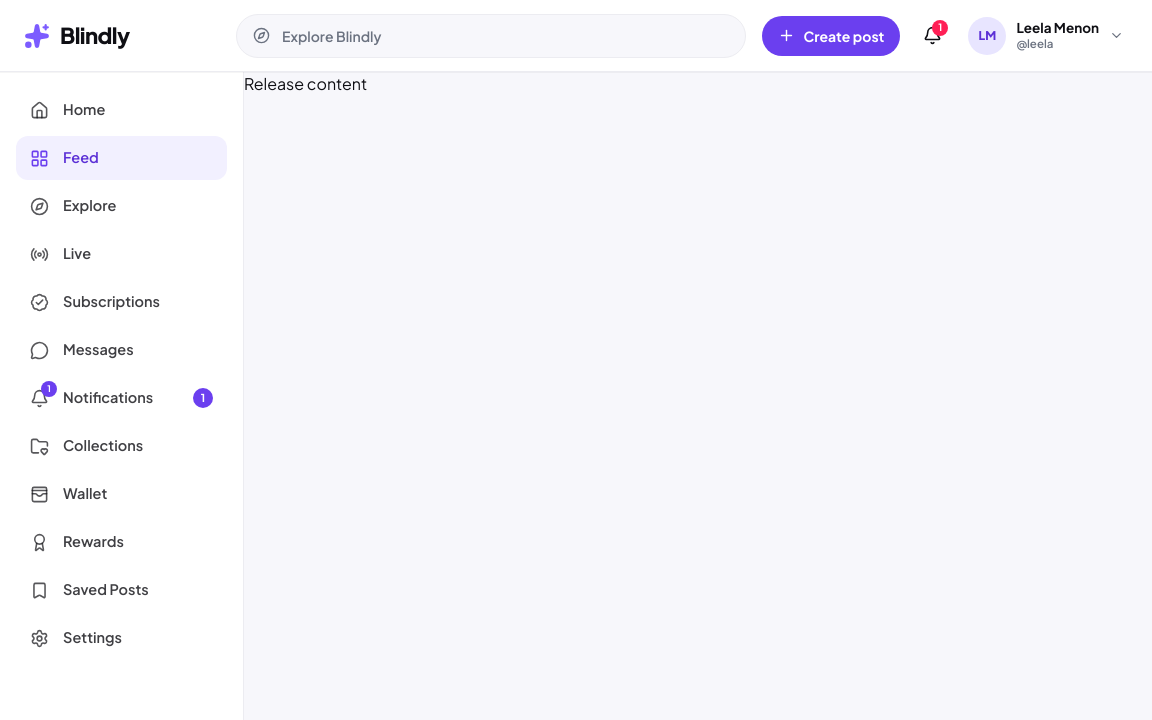
Test: Fan navigation › clears the user notification badge immediately and persists all notifications as read
expect the text "1" next to "Create post" is shown: met, box left=938, top=21, right=942, bottom=33
Click the link named "Notifications".
click(936, 32)  # box left=923, top=20, right=948, bottom=45
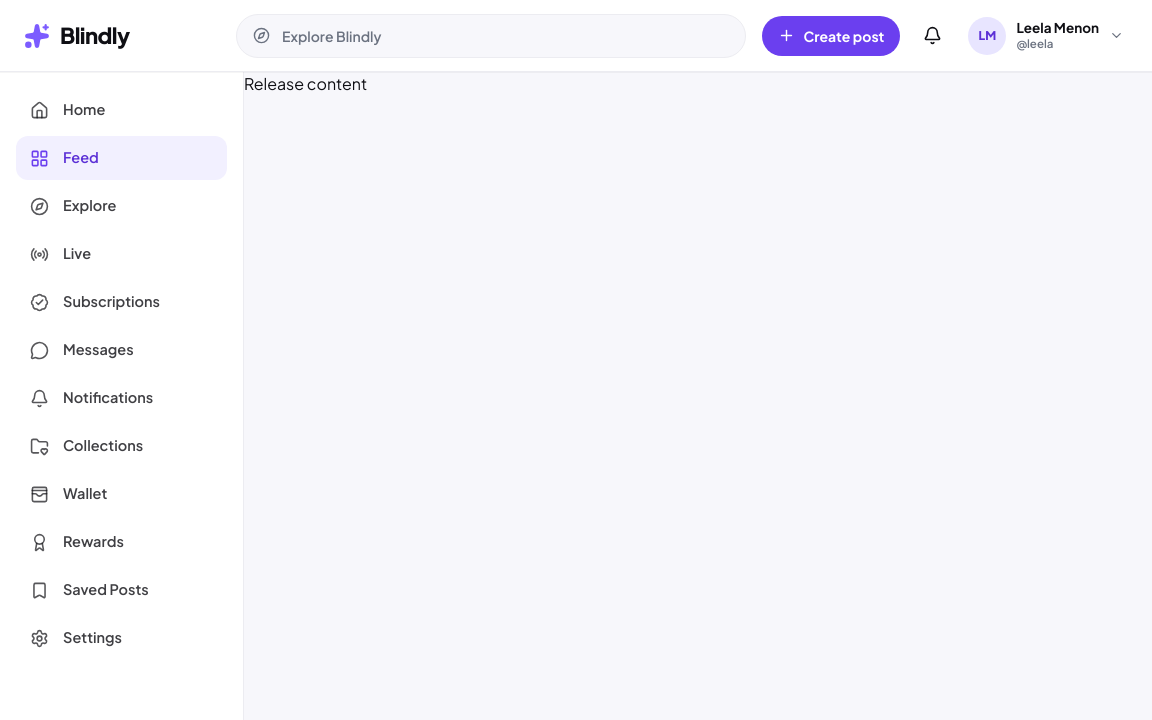
expect the text "1" is not shown: met
